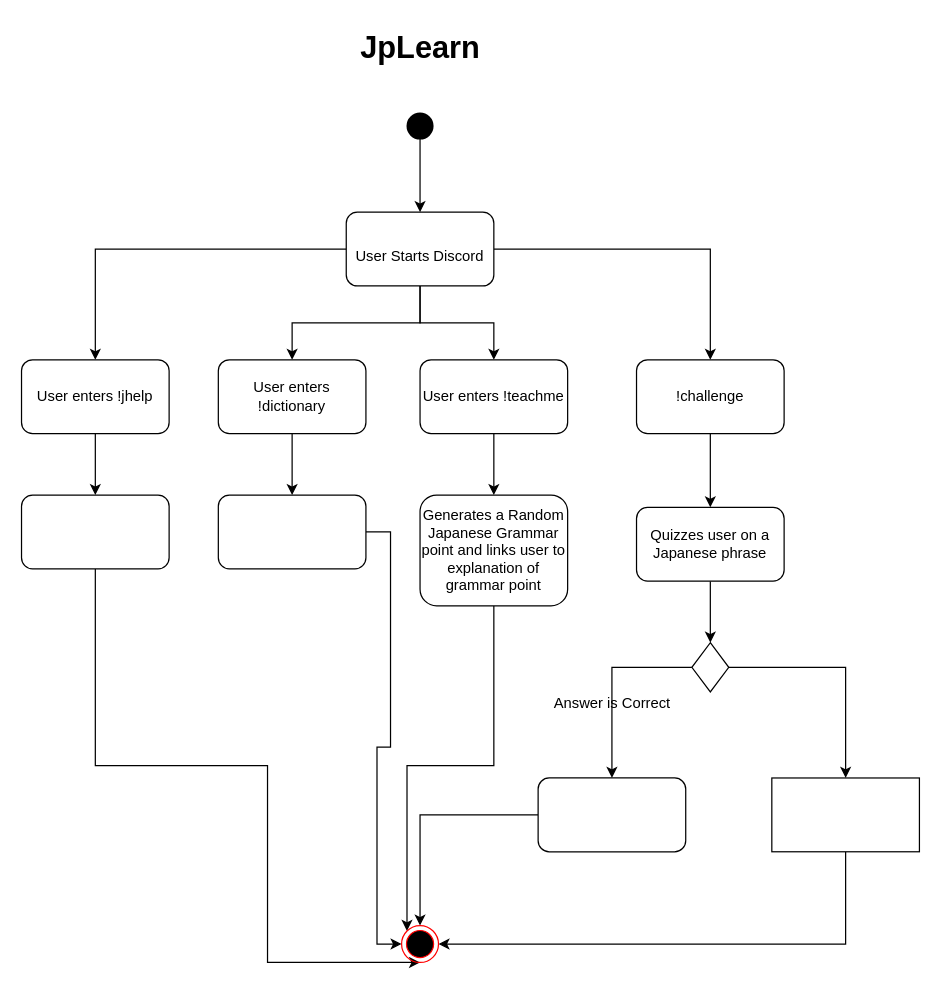
The diagram is 941 pixels wide and 994 high, and some of its shapes have lost their labels. Here are the shapes that lost their labels. From the top down, the box of each, then its label:
(20, 494, 169, 569): Presents user a list of Commands
(217, 494, 366, 569): Gives user links to Japanese Dictionary
(537, 777, 686, 852): System congratulate user and tells them correct
(771, 777, 919, 852): System tells user incorrect
